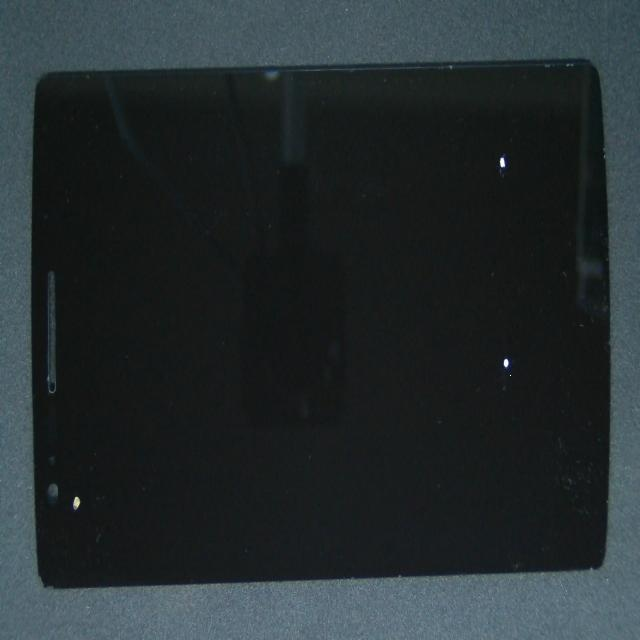stain: (239, 191, 640, 574), (245, 102, 640, 307), (29, 271, 88, 640)
